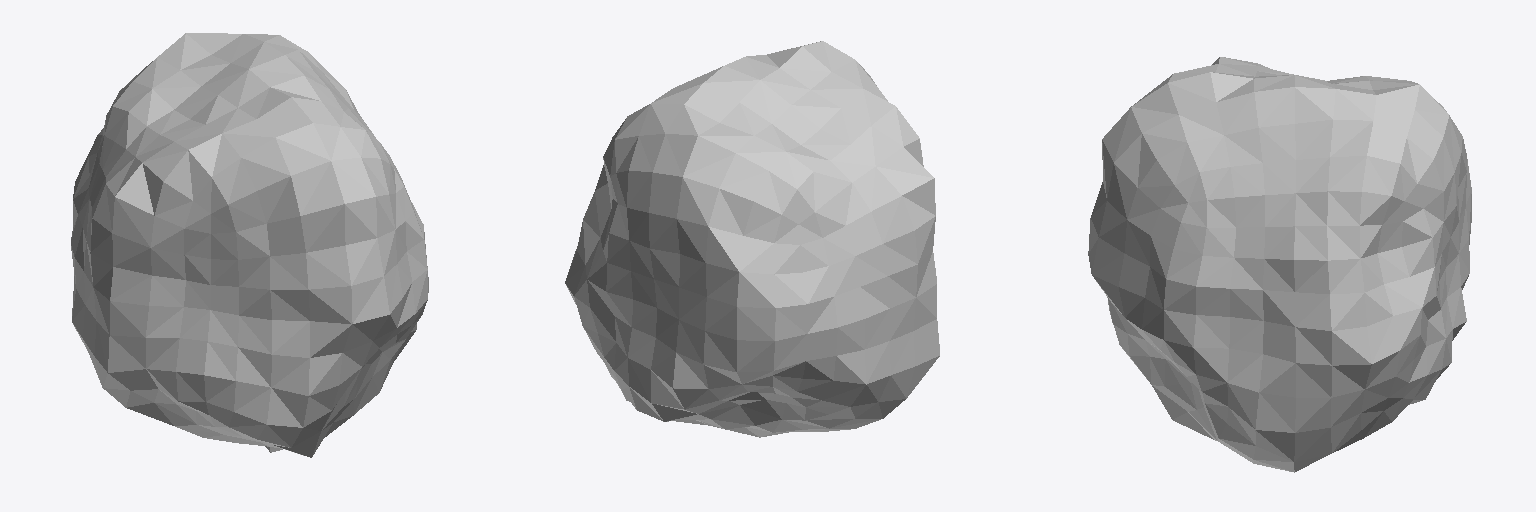
File: Roche.obj
The picture shows the model from 3 angles: view 1: azimuth 30°, elevation 25°; view 2: azimuth 150°, elevation 25°; view 3: azimuth 270°, elevation 25°; orthographic projection.
Visible parts, largest first — view 1: Cube; view 2: Cube; view 3: Cube.
Boxes of the visible parts, x1=… form: Cube: x1=71, y1=33, x2=428, y2=457; Cube: x1=565, y1=41, x2=939, y2=437; Cube: x1=1088, y1=57, x2=1471, y2=472.
Bounding box in the file's own units: 0.0748 × 0.0832 × 0.0774.